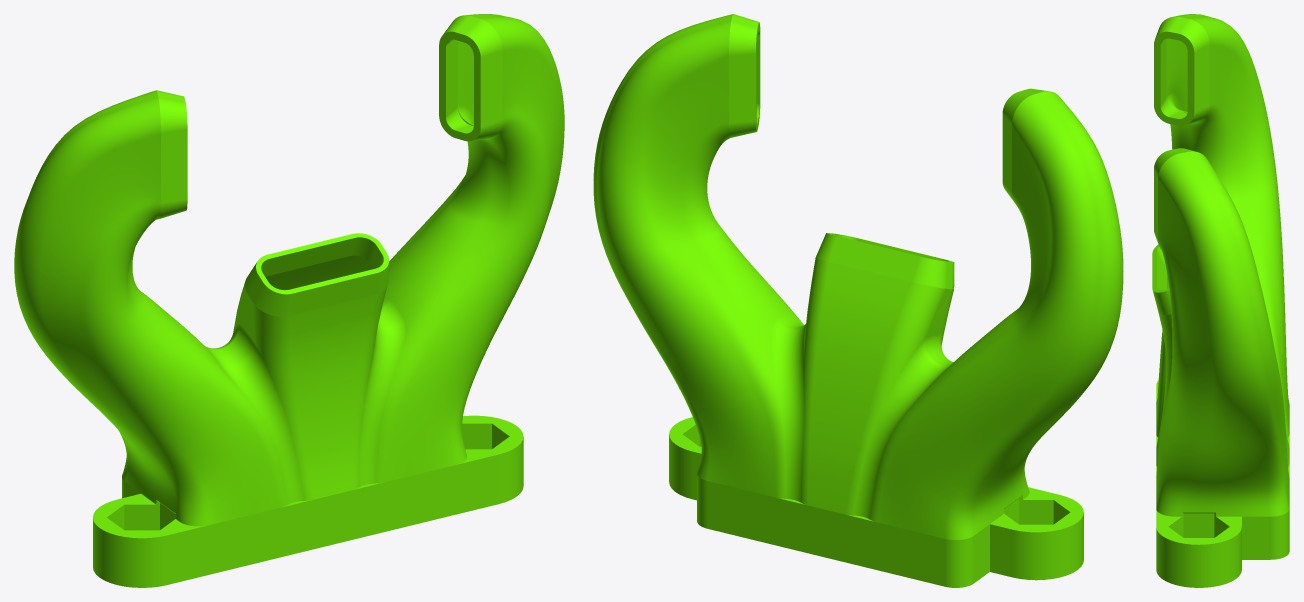
Rendered from TriHorn - Duct High Narrow.dae.
3 views of the same model, side by side, from view 1: azimuth 30°, elevation 25°; view 2: azimuth 150°, elevation 25°; view 3: azimuth 270°, elevation 25° (orthographic). The views are drawn at different scales.
Parts seen in each view (by area): view 1: ID2; view 2: ID2; view 3: ID2.
Boxes of the visible parts, bbox=[...] form: ID2: bbox=[14, 14, 564, 587]; ID2: bbox=[593, 14, 1123, 587]; ID2: bbox=[1152, 14, 1289, 587].
Bounding box in the file's own units: 0.057 × 0.0144 × 0.048.
